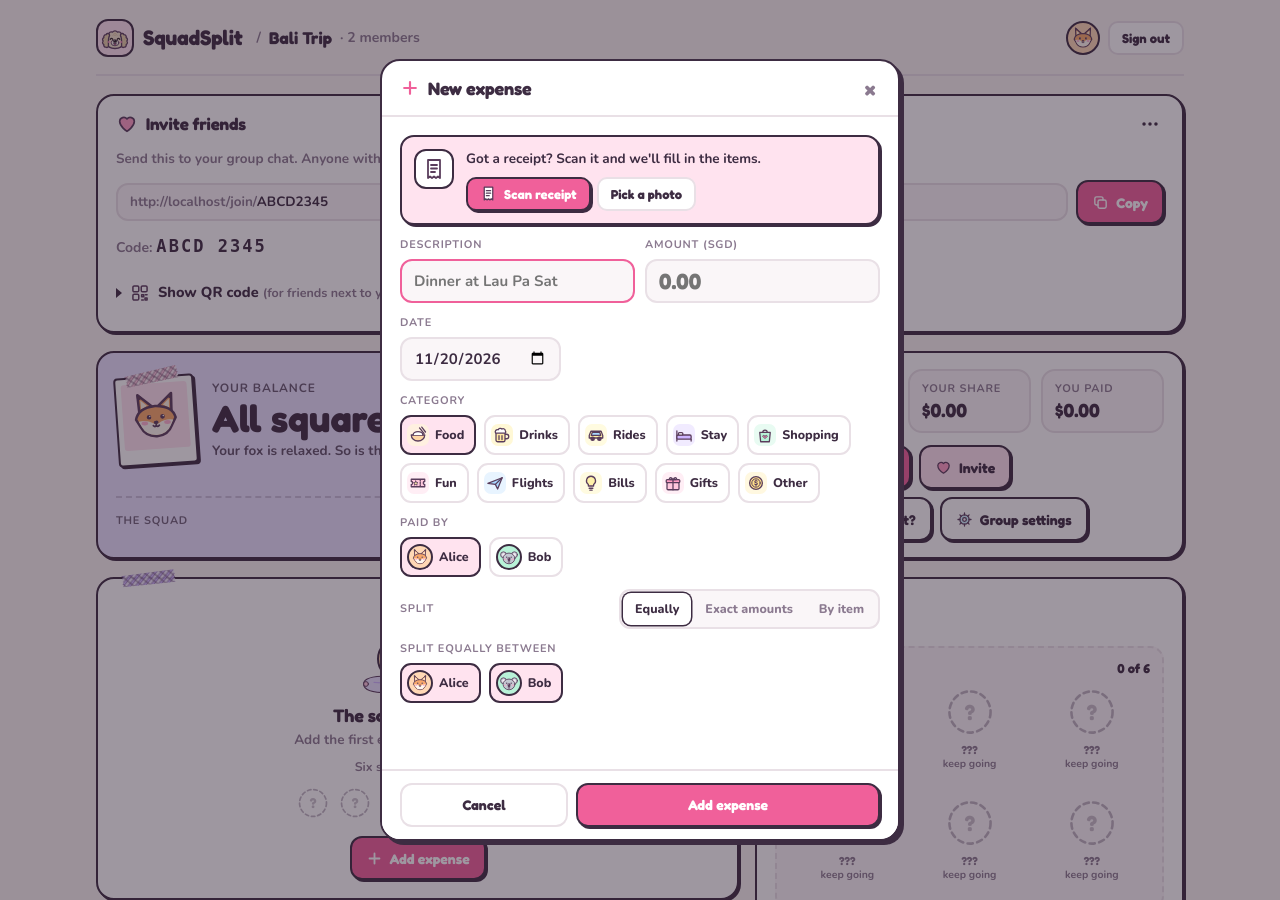
Test: Expense form › in exact mode, says when the shares go over the total
Type "10.00" into the field labelled "Amount (SGD)". click: [762, 281]
box: left=645, top=259, right=880, bottom=303
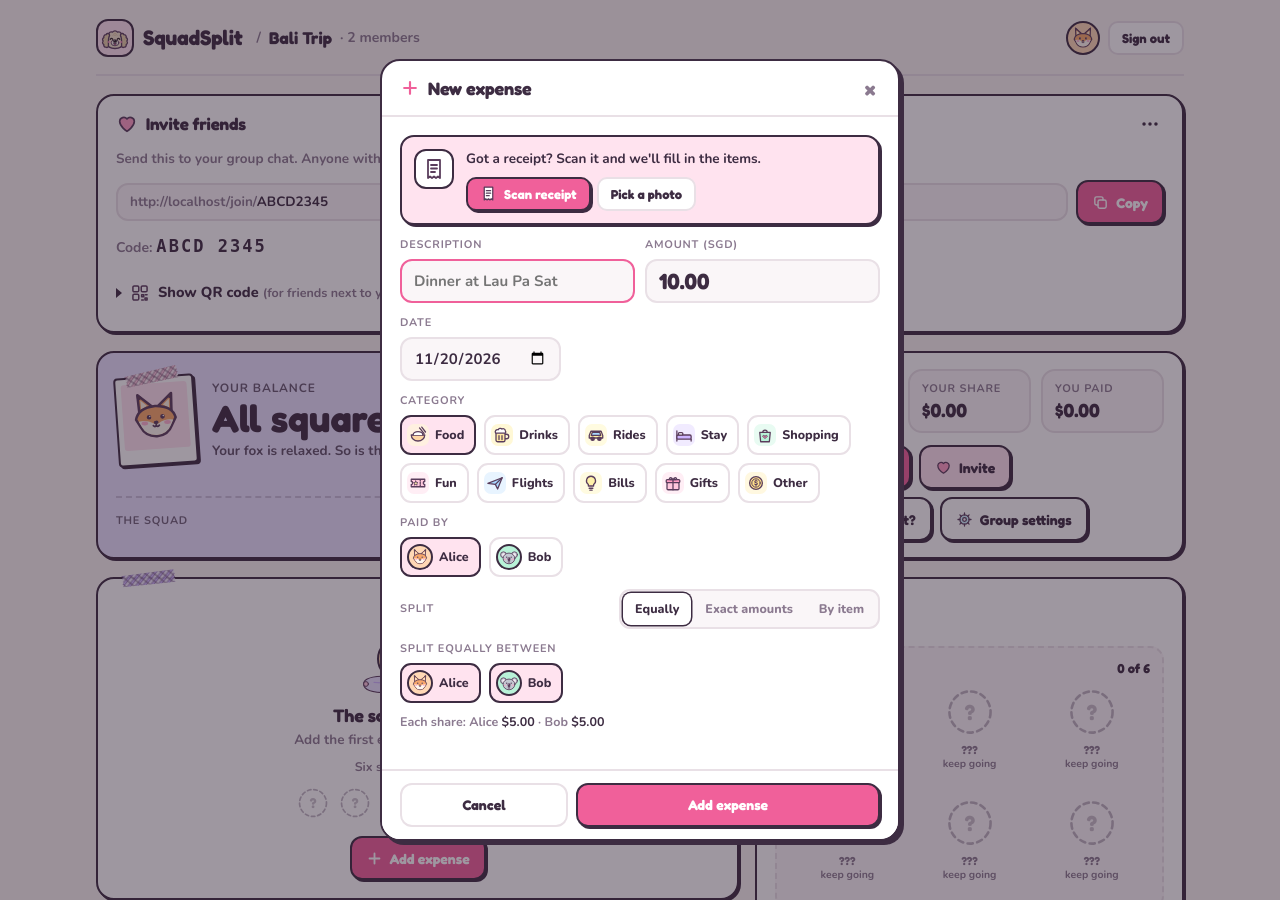
Click the button "Exact amounts". click: [749, 609]
box: left=693, top=593, right=805, bottom=625
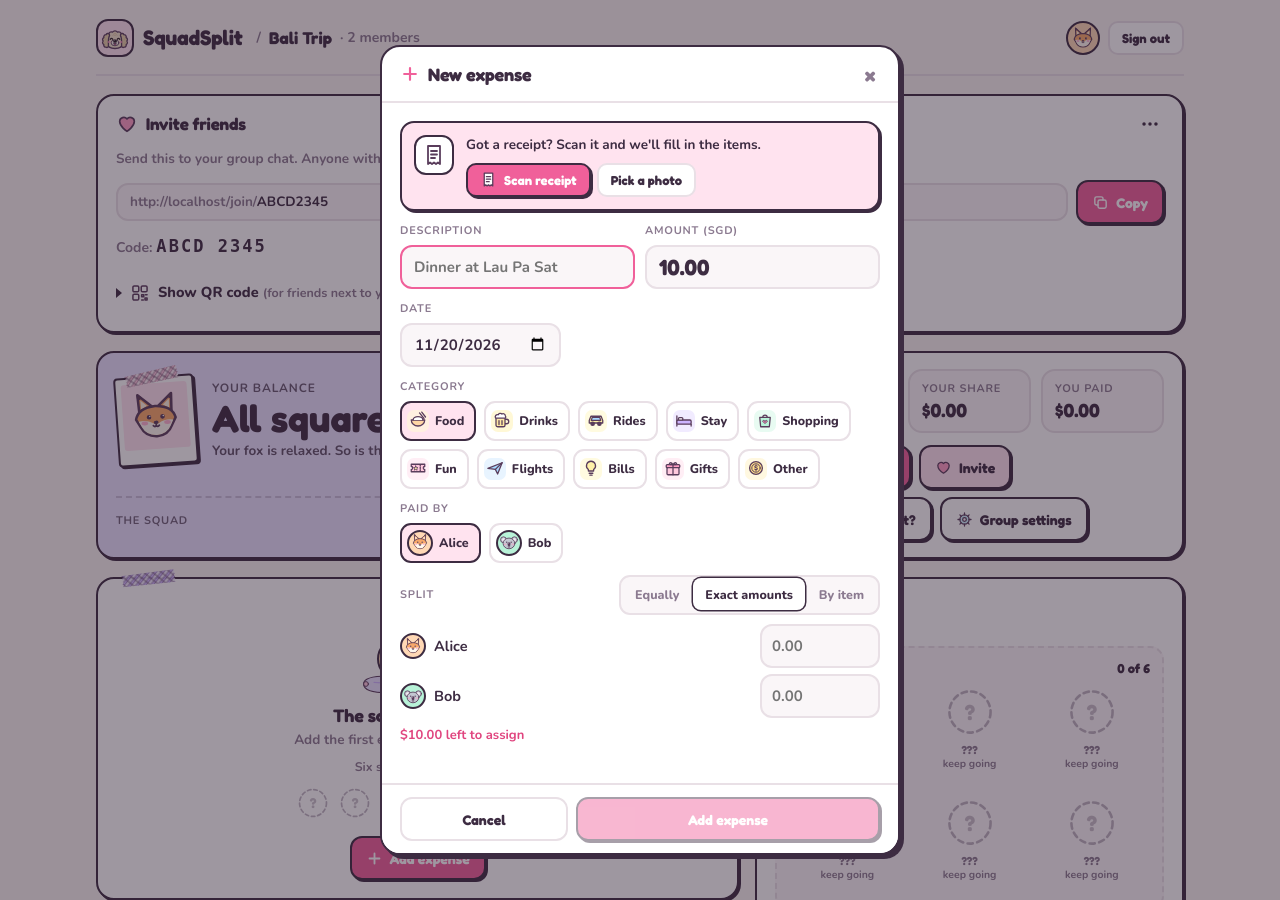
Type "7.00" into the field named "Alice's share". click: [820, 646]
box: left=760, top=624, right=880, bottom=668
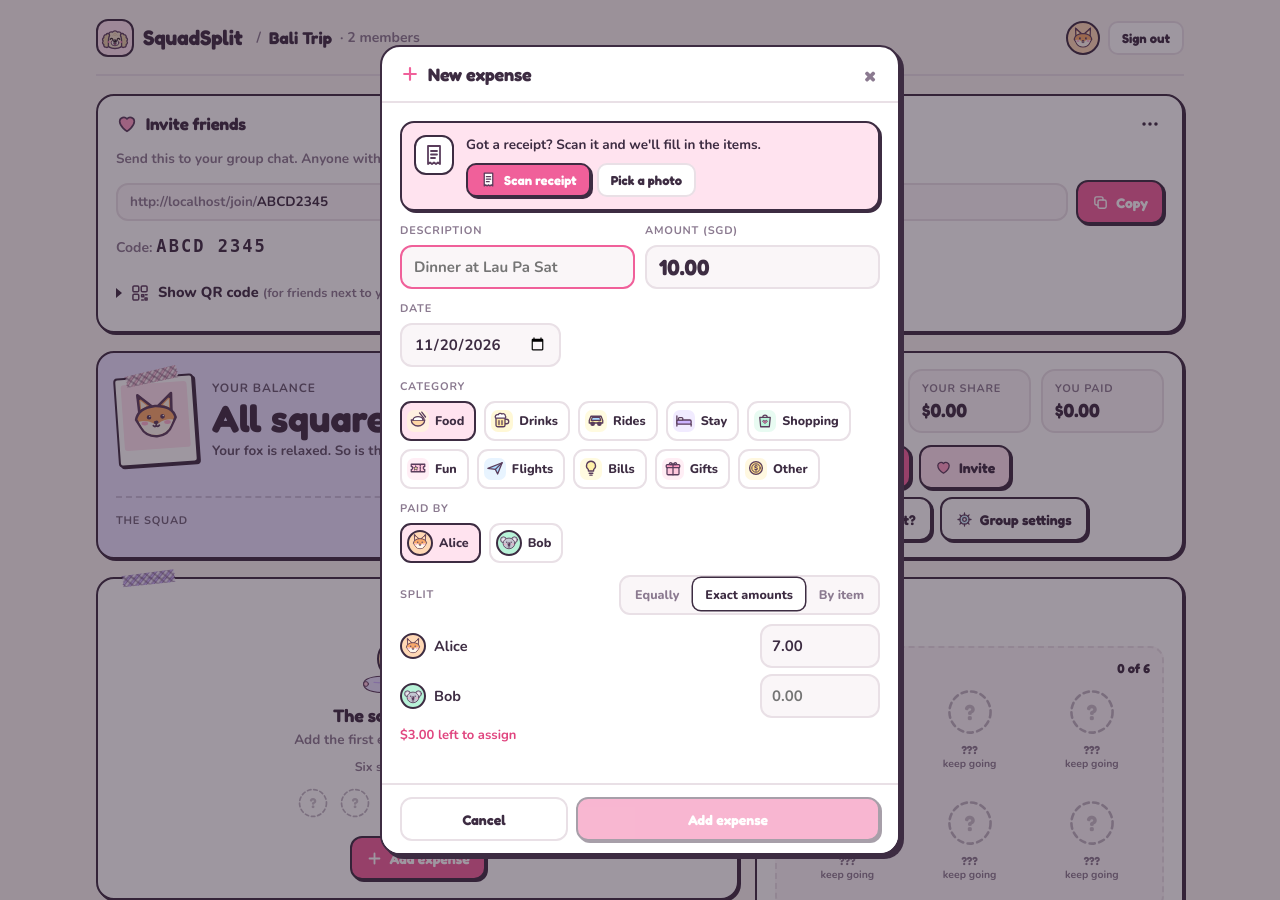
Type "5.00" into the field named "Bob's share". click: [820, 696]
box: left=760, top=674, right=880, bottom=718
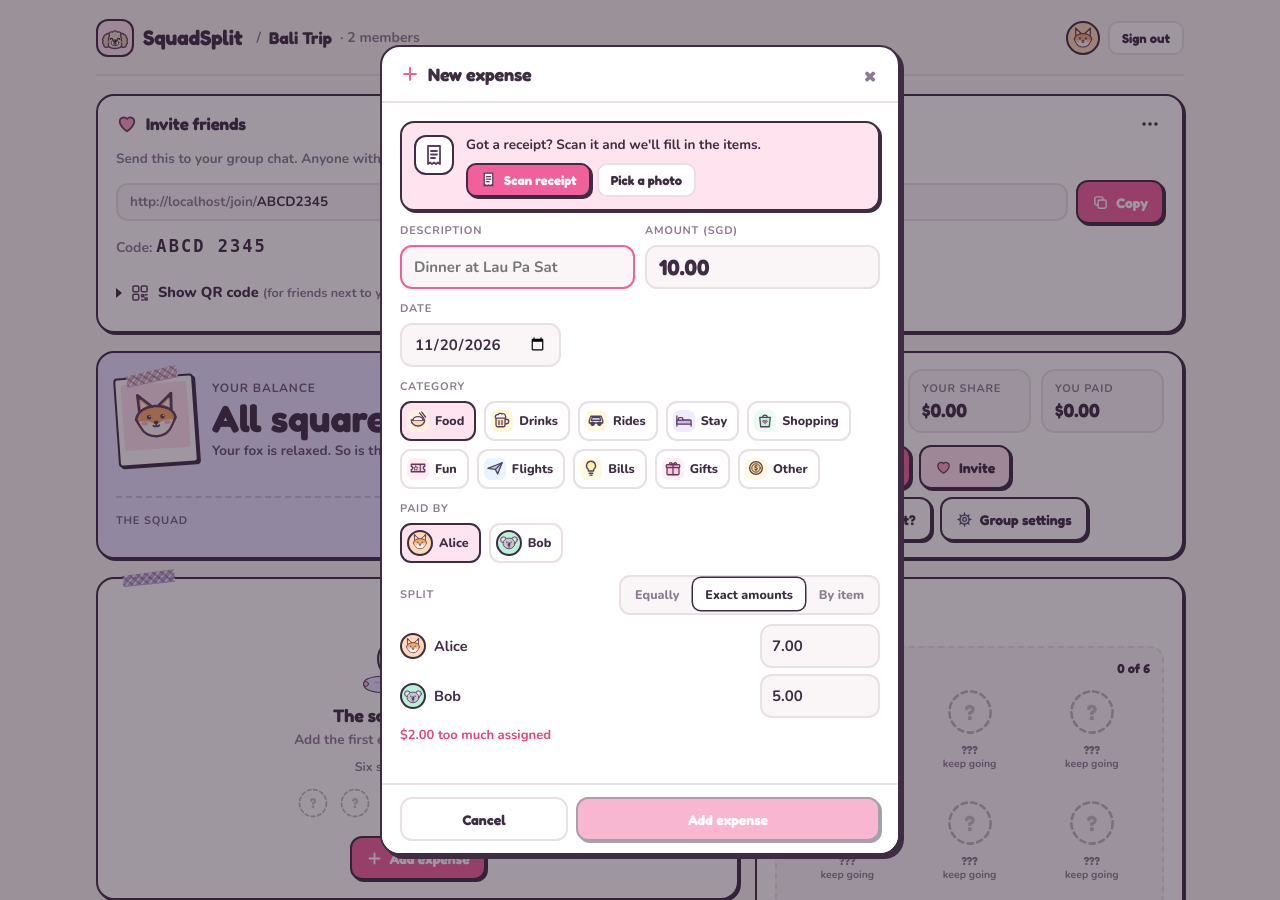
Expected: the button "Add expense" is disabled, left=576, top=797, right=880, bottom=841
Expected: the text "$2.00 too much assigned" is shown, left=400, top=726, right=551, bottom=744
